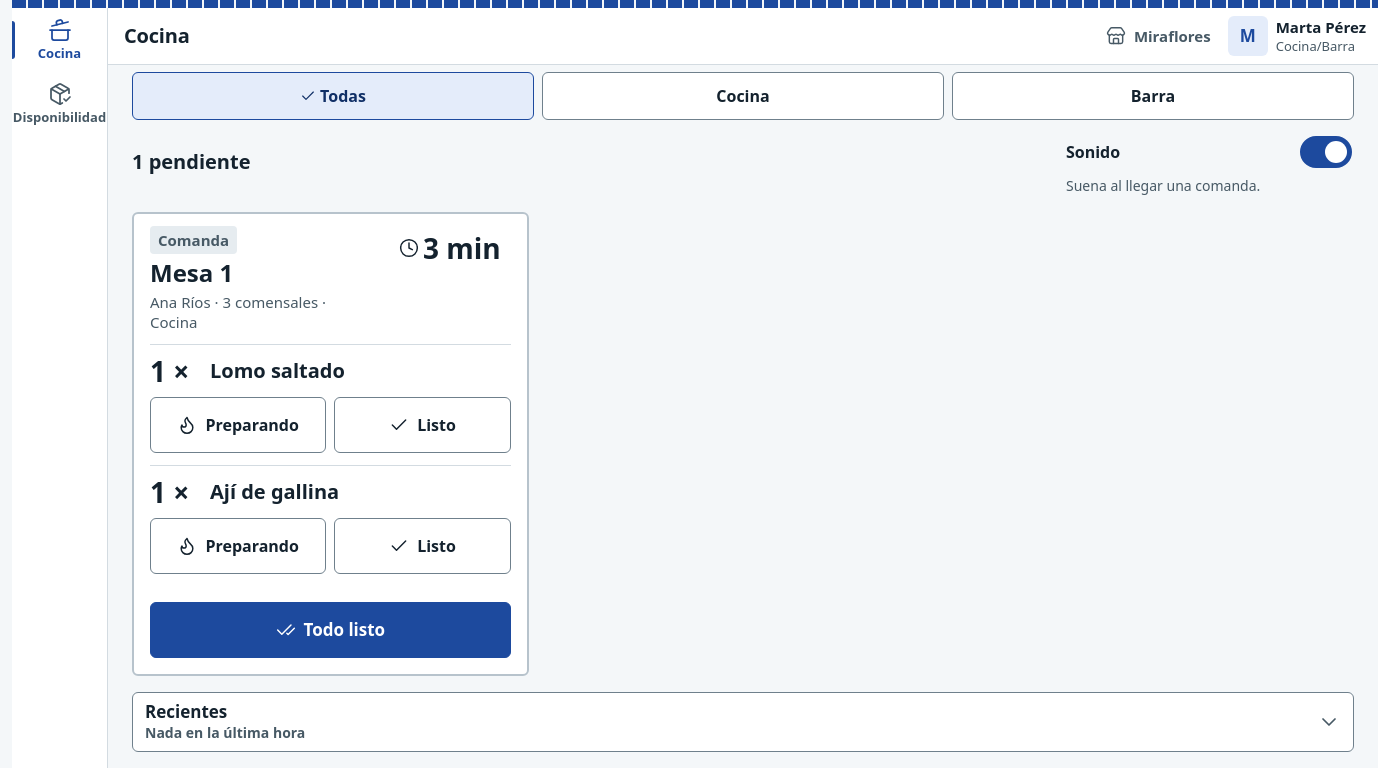
Scenario: Cocina: las transiciones (criterios 58 y 59) › "Listo" en una línea deja la comanda pendiente mientras quede otra por preparar
(page scrolled)
Step 1. Click the button with aria-label "Listo: Lomo saltado" → (422, 425), box top-left (334, 397), bottom-right (511, 453)
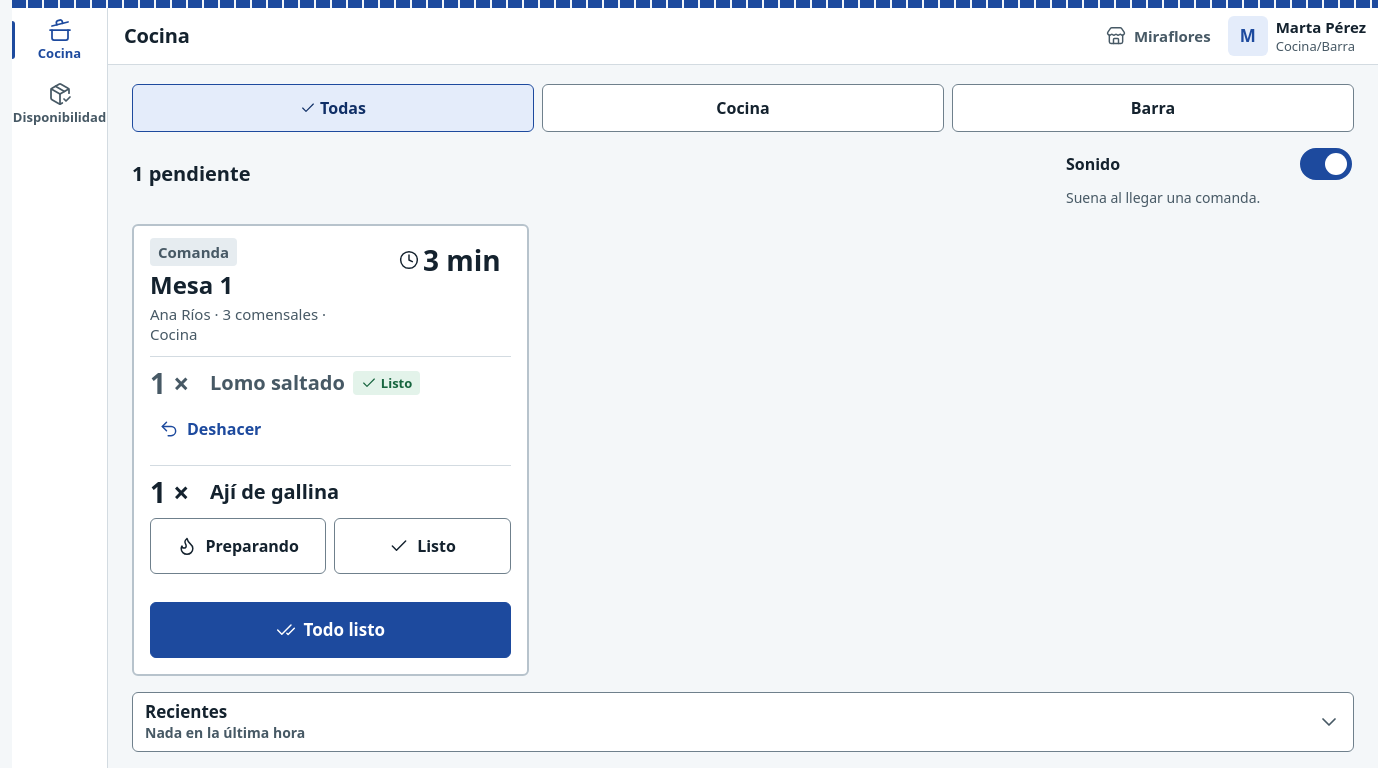
Check: the button with aria-label "Listo: Ají de gallina" is shown, box top-left (334, 518), bottom-right (511, 574)
Check: the button with aria-label "Deshacer el listo: Lomo saltado" is shown, box top-left (150, 405), bottom-right (270, 453)
